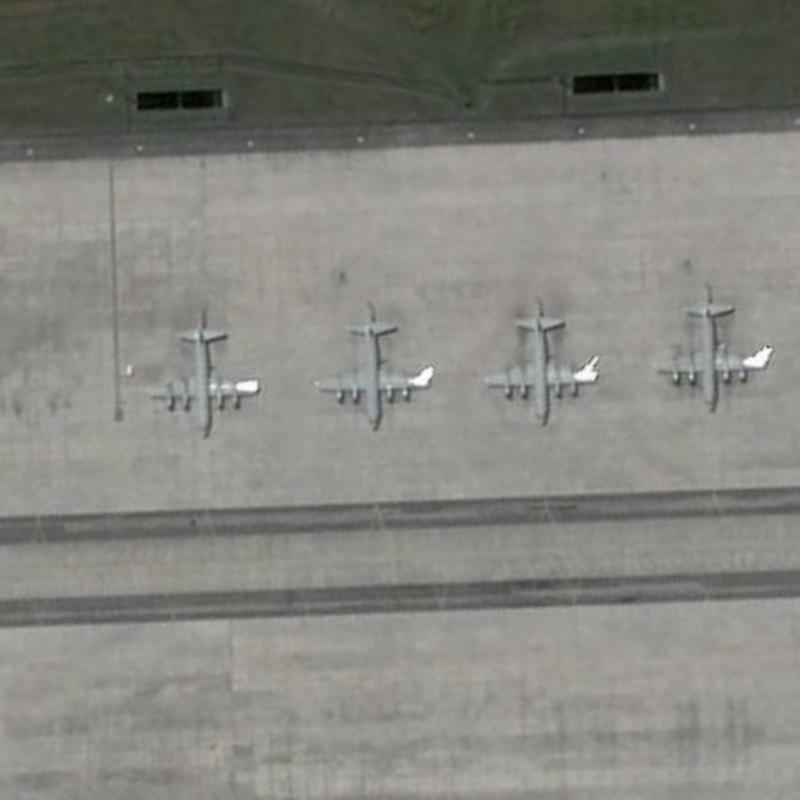A9: (304, 293, 431, 436), (475, 295, 599, 433), (142, 304, 260, 443), (650, 281, 764, 417)
